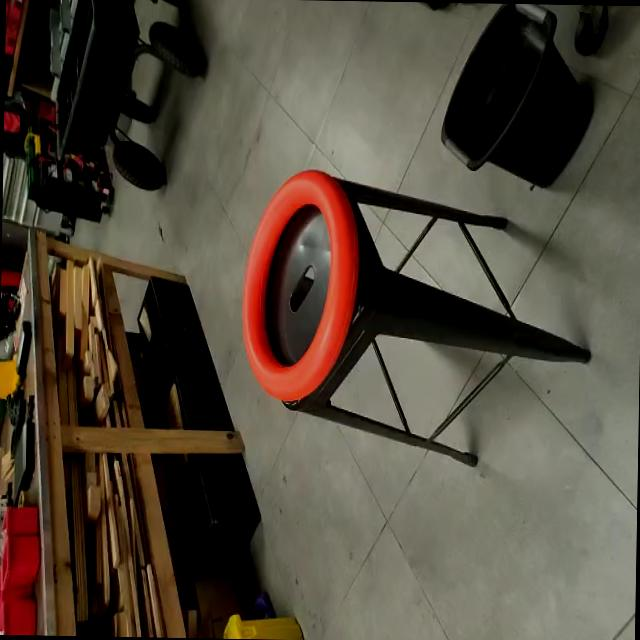note: (238, 161, 360, 405)
